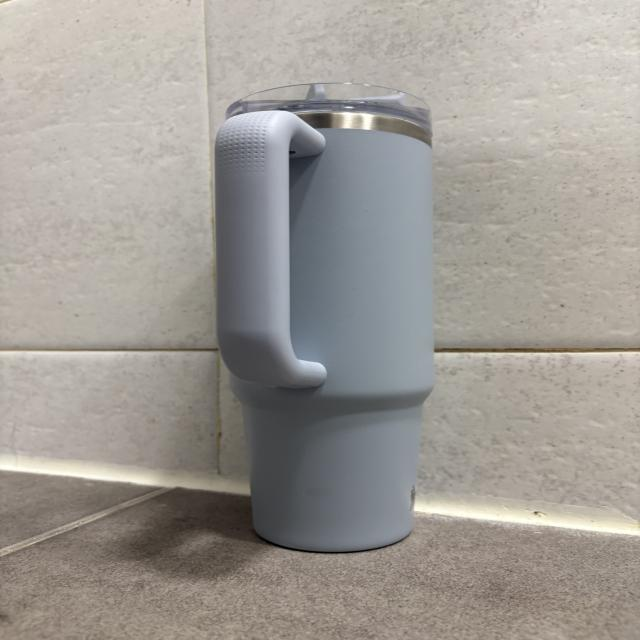waterbottle: (215, 83, 434, 553)
